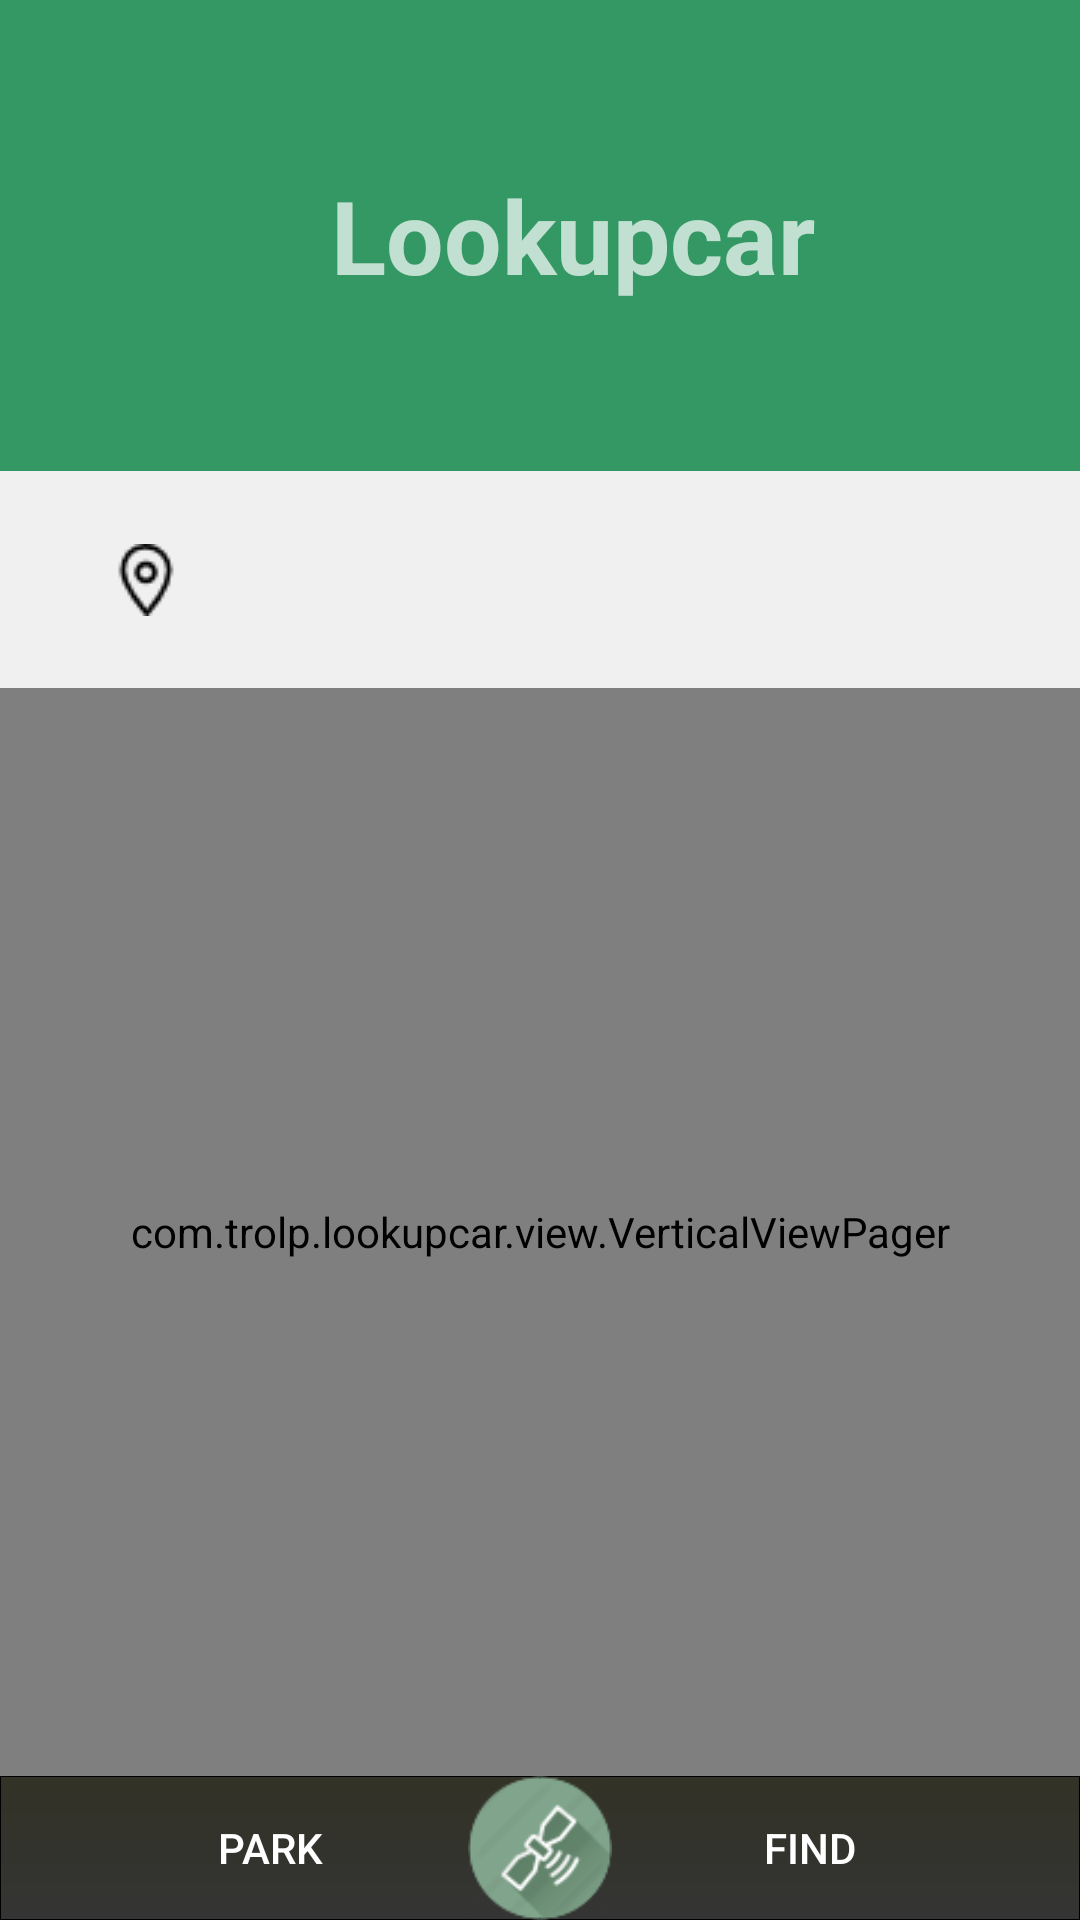

Icons on this 1080 x 1920 Android screen, each with the point to tap as point (x, y):
marker: point (146, 580)
